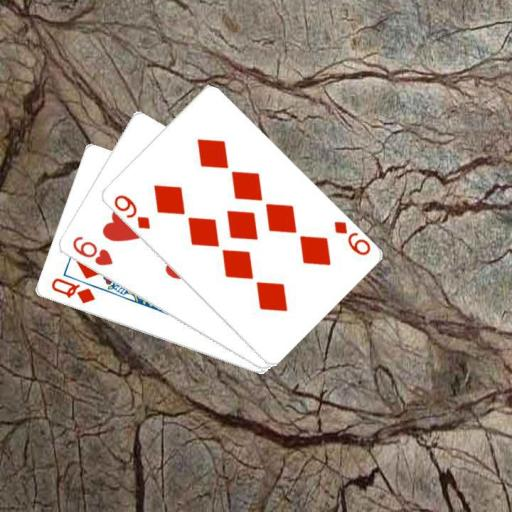6H: (68, 233, 114, 268)
9D: (110, 191, 152, 231), (330, 218, 372, 258)
QD: (48, 274, 97, 306)
